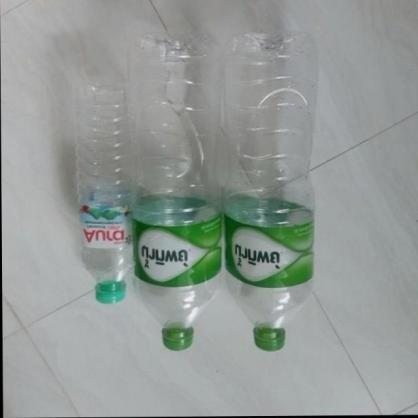bottle: (224, 27, 321, 352), (133, 29, 224, 352), (77, 76, 133, 305)
cap: (252, 325, 286, 354), (158, 327, 195, 351), (94, 285, 126, 305)
label: (137, 207, 222, 288), (228, 214, 316, 290), (78, 201, 131, 246)
